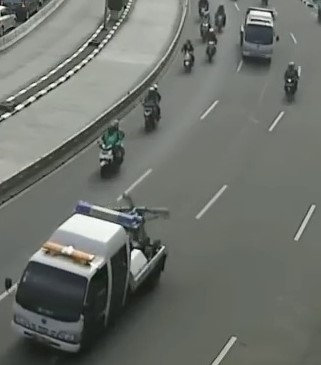car: (14, 201, 167, 350), (239, 7, 274, 63)
motorbike: (94, 119, 130, 179), (142, 83, 162, 133), (284, 62, 300, 104), (181, 39, 197, 74), (206, 27, 219, 65), (200, 11, 212, 42), (215, 4, 226, 35)
